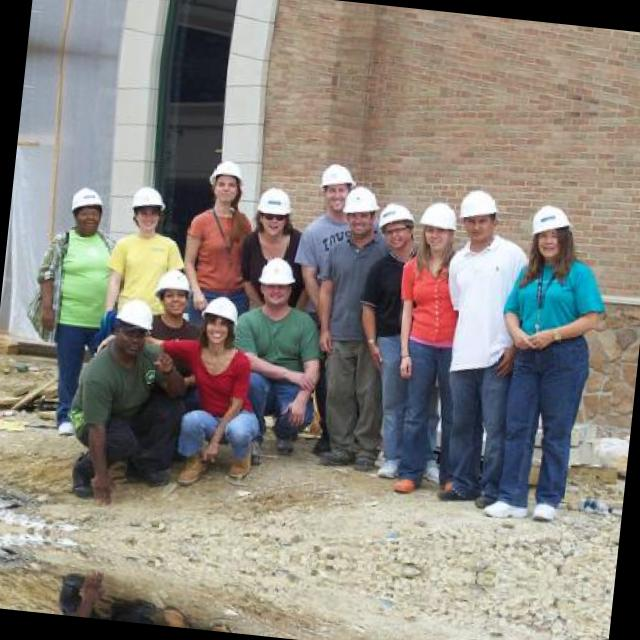helmet: (524, 202, 571, 262), (108, 296, 154, 354), (416, 198, 460, 254), (374, 198, 419, 252), (454, 185, 498, 240), (124, 180, 166, 234), (150, 264, 193, 316), (64, 182, 105, 236), (198, 290, 238, 344), (254, 180, 292, 236), (256, 253, 294, 306), (314, 160, 354, 210), (340, 183, 379, 233), (208, 157, 242, 203)
